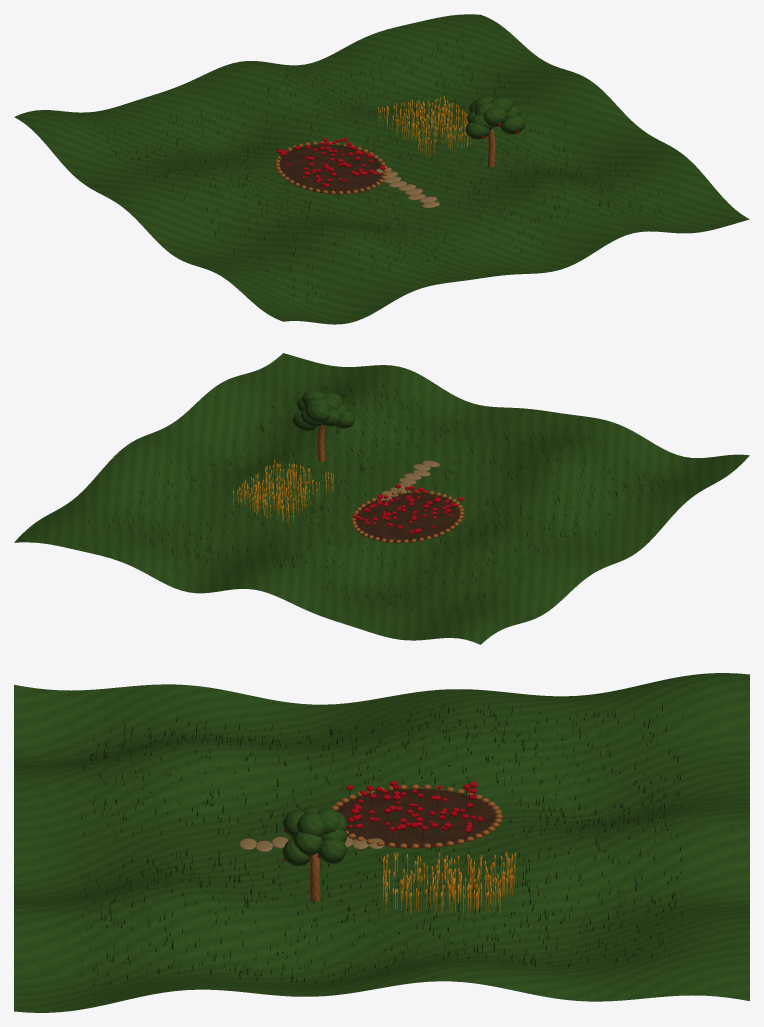
File: prince-earth.glb
The picture shows the model from 3 angles, top to bottom: view 1: azimuth 30°, elevation 25°; view 2: azimuth 150°, elevation 25°; view 3: azimuth 270°, elevation 25°; orthographic projection. The views are drawn at different scales.
Parts seen in each view (by area): view 1: Earth meadow, Rose bed soil, Golden wheat, Velvet rose petal, Garden bed stone edging, Stepping stone; view 2: Earth meadow, Rose bed soil, Golden wheat, Velvet rose petal, Garden bed stone edging, Stepping stone; view 3: Earth meadow, Rose bed soil, Golden wheat, Velvet rose petal, Garden bed stone edging, Stepping stone.
Part boxes in pixels (x1=…): Earth meadow: x1=14, y1=14, x2=749, y2=324; Rose bed soil: x1=279, y1=144, x2=381, y2=194; Golden wheat: x1=377, y1=96, x2=486, y2=155; Velvet rose petal: x1=277, y1=123, x2=518, y2=187; Garden bed stone edging: x1=275, y1=128, x2=495, y2=194; Stepping stone: x1=376, y1=167, x2=439, y2=208; Earth meadow: x1=14, y1=353, x2=749, y2=644; Rose bed soil: x1=355, y1=493, x2=459, y2=542; Golden wheat: x1=232, y1=460, x2=333, y2=523; Velvet rose petal: x1=353, y1=484, x2=463, y2=533; Garden bed stone edging: x1=317, y1=425, x2=464, y2=543; Stepping stone: x1=376, y1=460, x2=439, y2=500; Earth meadow: x1=14, y1=673, x2=749, y2=1012; Rose bed soil: x1=337, y1=789, x2=495, y2=848; Golden wheat: x1=382, y1=852, x2=515, y2=913; Velvet rose petal: x1=283, y1=781, x2=482, y2=860; Garden bed stone edging: x1=310, y1=784, x2=502, y2=901; Stepping stone: x1=239, y1=836, x2=384, y2=851.
Bounding box in the file's own units: 22 × 3.78 × 22.
6 materials, 6 textured.
